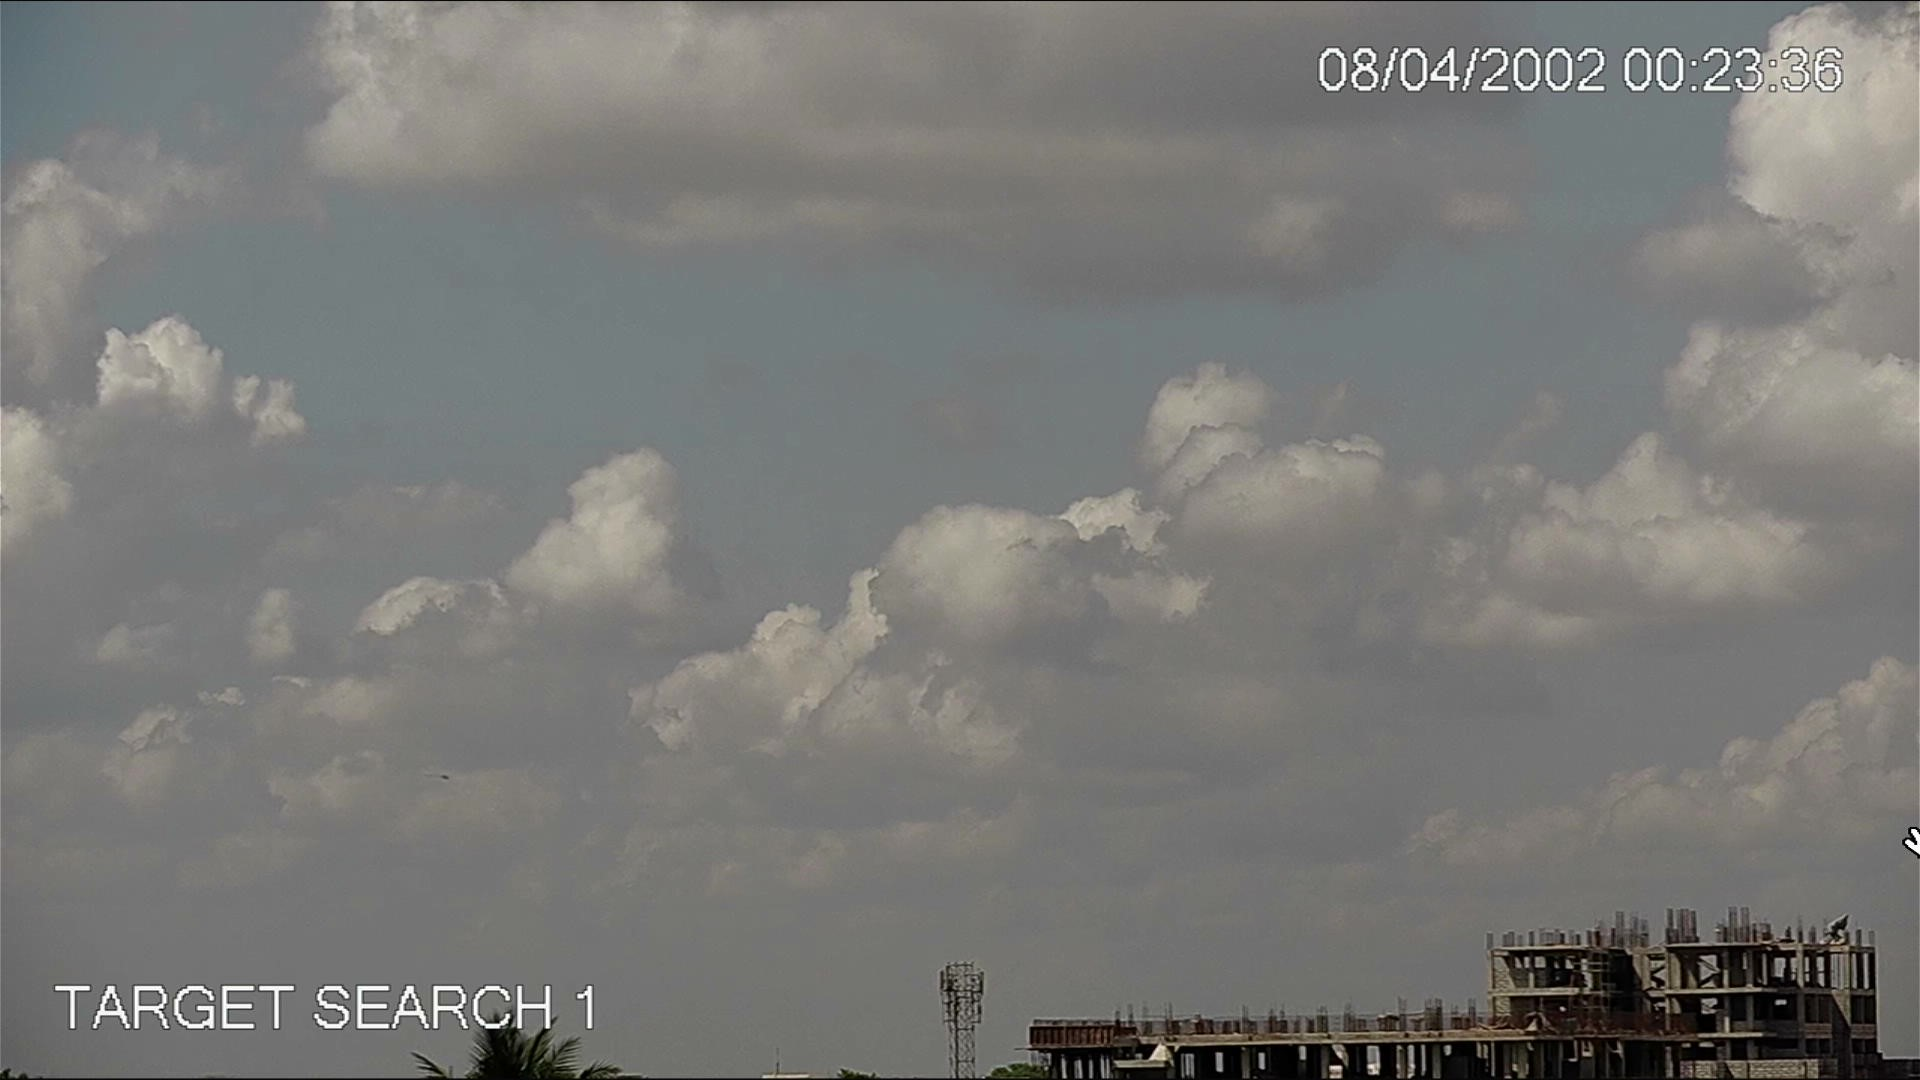SU_30: (419, 770, 451, 783)
